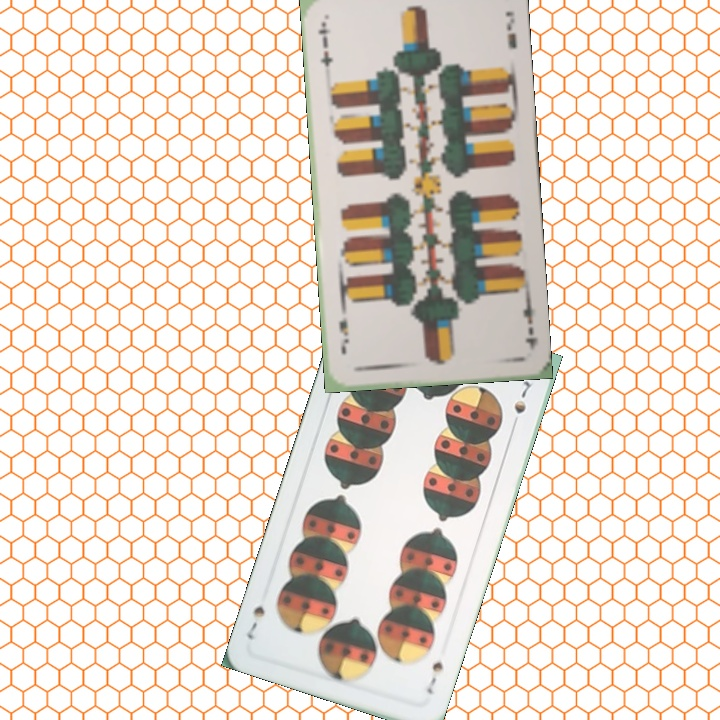E7: (519, 294, 540, 353), (314, 18, 335, 70)
S7: (422, 657, 446, 697)
